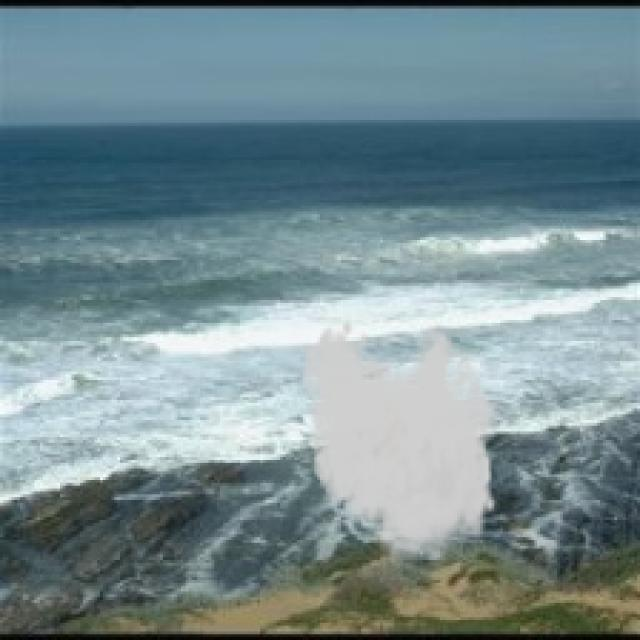smoke: (300, 317, 509, 574)
